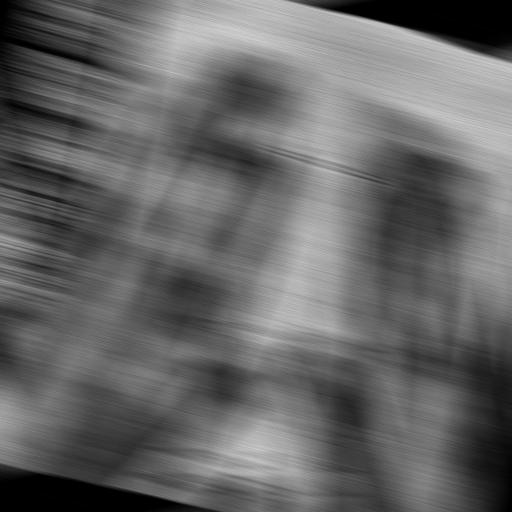house: (81, 54, 512, 512)
